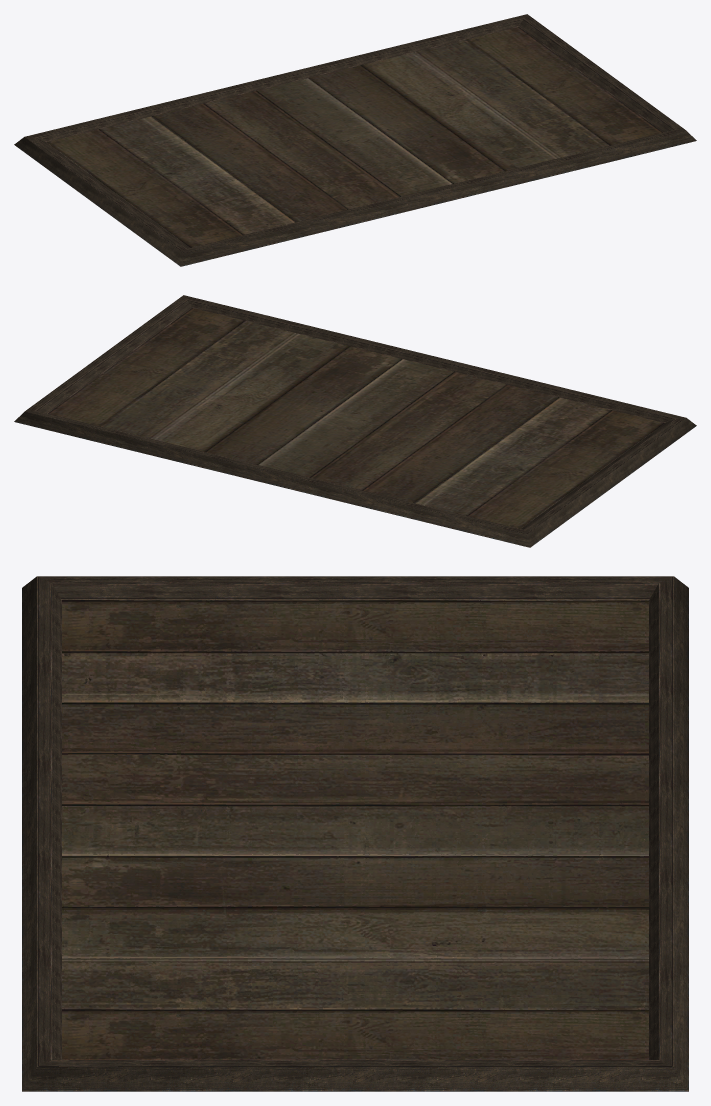
Rendered from vent01.fbx.
3 views of the same model, one above another, from view 1: azimuth 30°, elevation 25°; view 2: azimuth 150°, elevation 25°; view 3: azimuth 270°, elevation 25° (orthographic). The views are drawn at different scales.
Parts seen in each view (by area): view 1: vent01; view 2: vent01; view 3: vent01.
Part boxes in pixels (bbox=[...]): vent01: bbox=[14, 14, 696, 266]; vent01: bbox=[14, 295, 696, 547]; vent01: bbox=[22, 576, 688, 1091].
Size of the model in its own units: 6.4 by 0.1082 by 3.58.
